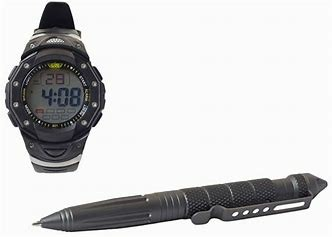pen: (32, 176, 327, 231)
